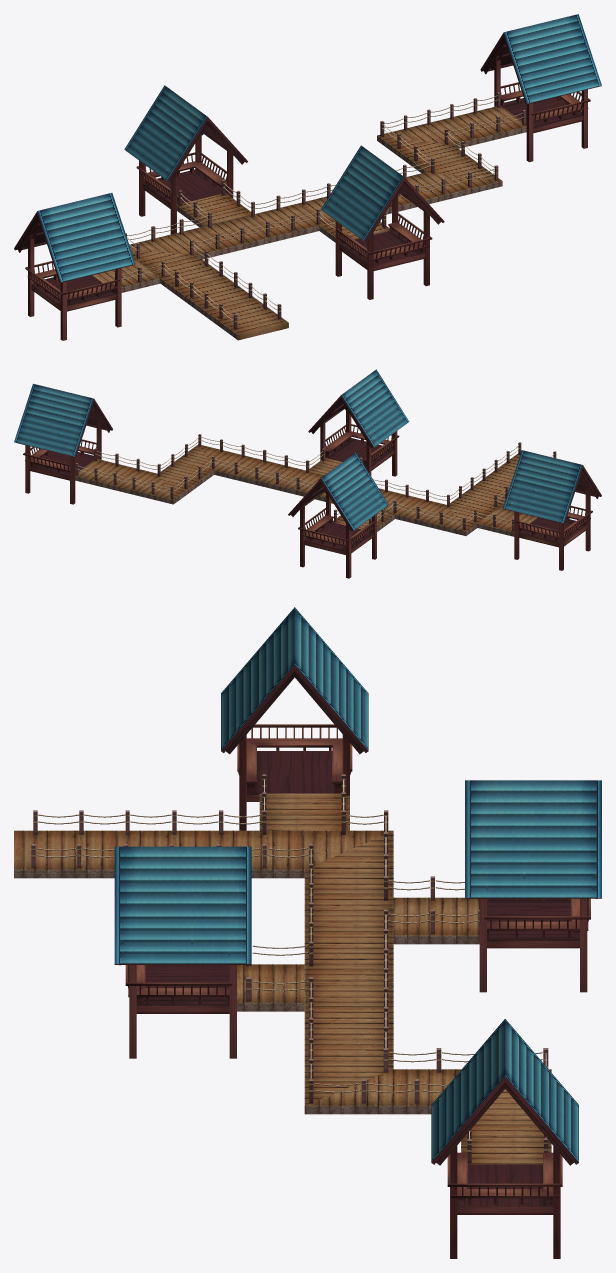
The model's file is furni_0201023.FBX.
3 renders of one model, top to bottom at view 1: azimuth 30°, elevation 25°; view 2: azimuth 150°, elevation 25°; view 3: azimuth 270°, elevation 25°, orthographic. The views are drawn at different scales.
Parts seen in each view (by area): view 1: furni_0201023; view 2: furni_0201023; view 3: furni_0201023.
Part boxes in pixels (x1,y1,x2,y2): furni_0201023: (14,14,601,340); furni_0201023: (14,369,601,578); furni_0201023: (14,607,601,1258).
Size of the model in its own units: 3950 by 740 by 2091.
Materials: 6 (6 with a texture image).
